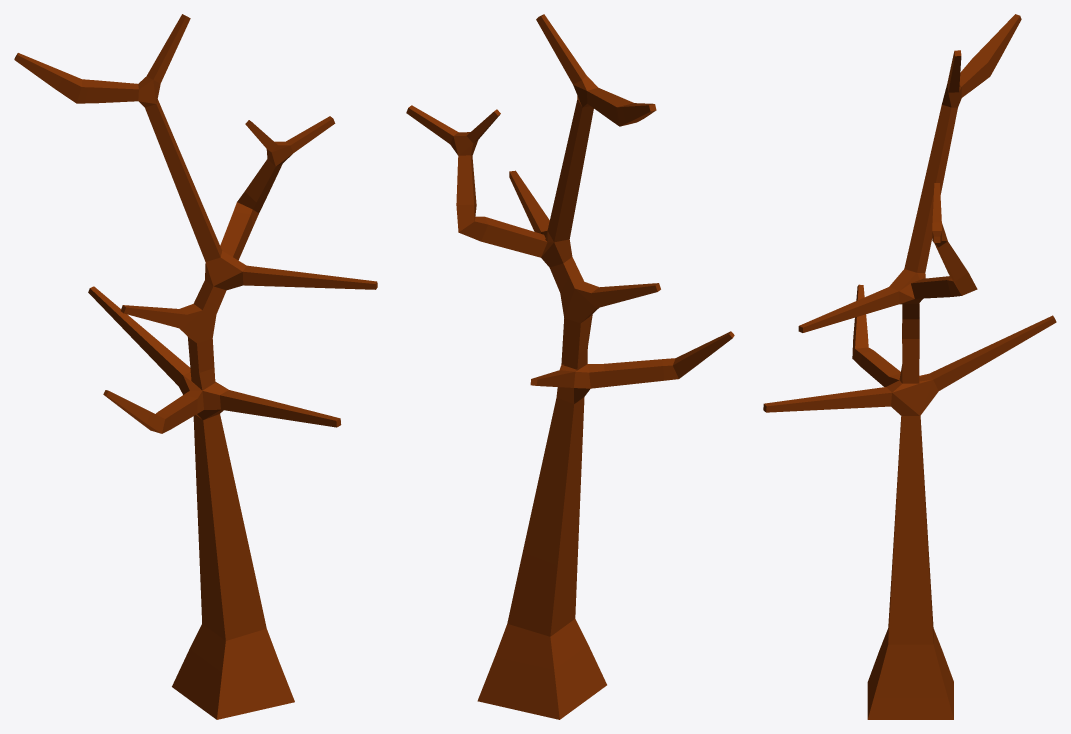
Rendered from stvol 1.fbx.
3 views of the same model, side by side, from view 1: azimuth 30°, elevation 25°; view 2: azimuth 150°, elevation 25°; view 3: azimuth 270°, elevation 25° (orthographic). The views are drawn at different scales.
Visible parts, largest first — view 1: Plane; view 2: Plane; view 3: Plane.
Part boxes in pixels (left/top/right/bottom): Plane: left=14, top=14, right=377, bottom=719; Plane: left=406, top=14, right=734, bottom=719; Plane: left=763, top=14, right=1056, bottom=719.
Bounding box in the file's own units: 4.11 × 9.44 × 3.93.
